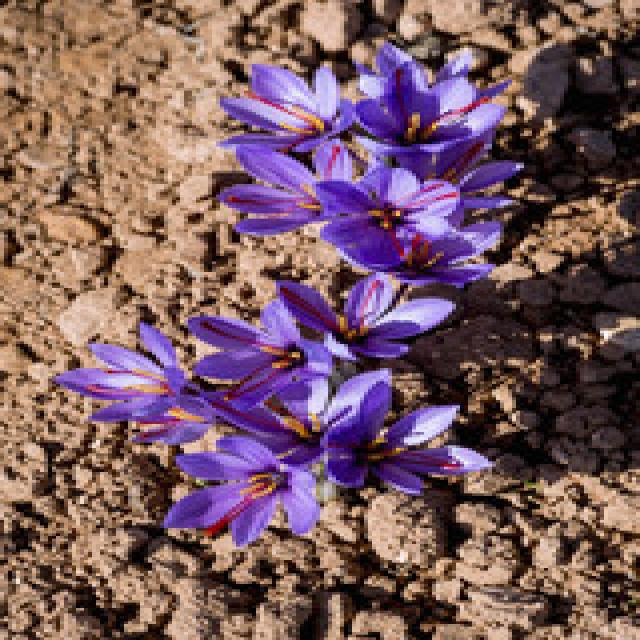saffron open: (322, 380, 491, 494), (163, 436, 321, 546), (188, 300, 332, 409), (278, 272, 456, 359), (356, 44, 504, 146), (218, 140, 352, 234), (221, 64, 352, 152)
